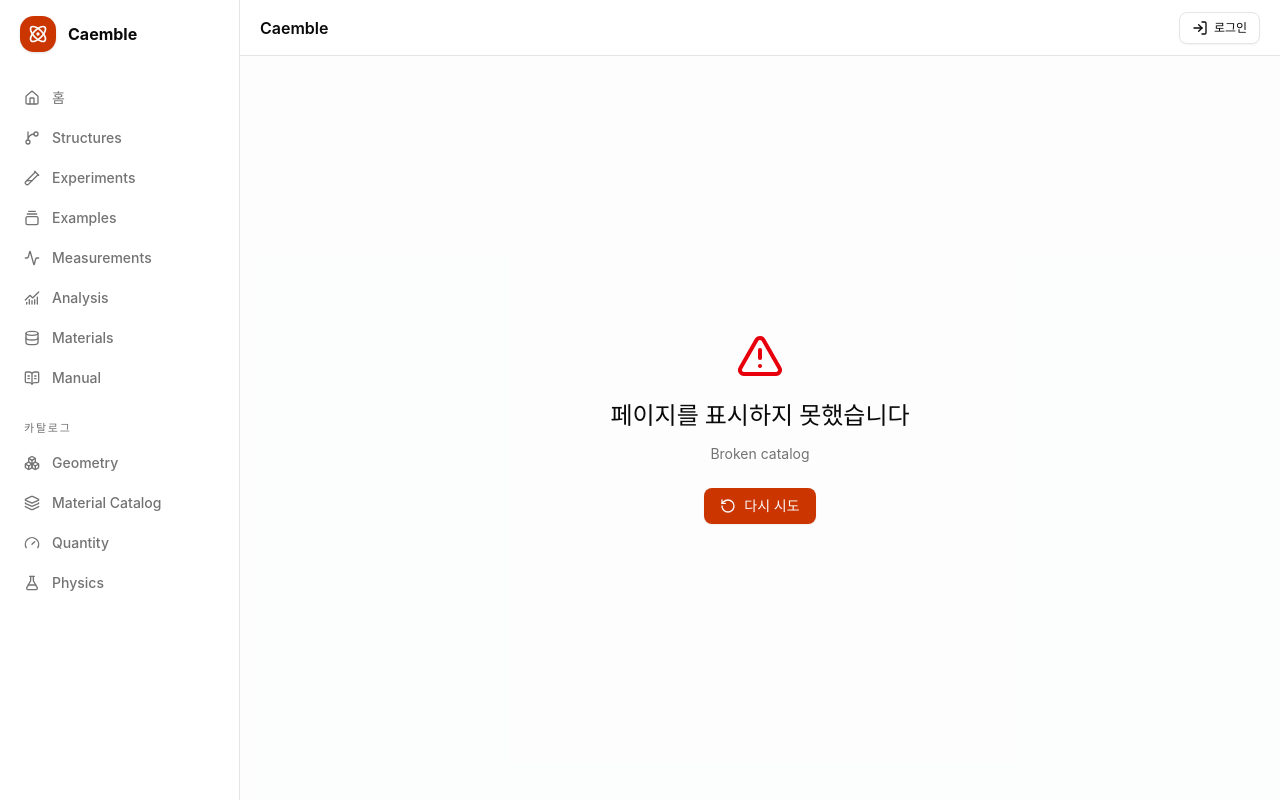
Test case: AppShell catalog navigation › keeps the app shell available when a catalog child fails
Expected: the heading "페이지를 표시하지 못했습니다" is shown, top-left (610, 400), bottom-right (910, 432)
Expected: the text "Broken catalog" is shown, top-left (710, 445), bottom-right (810, 462)
Click the link "홈": [32, 98] box top-left (24, 89), bottom-right (65, 106)
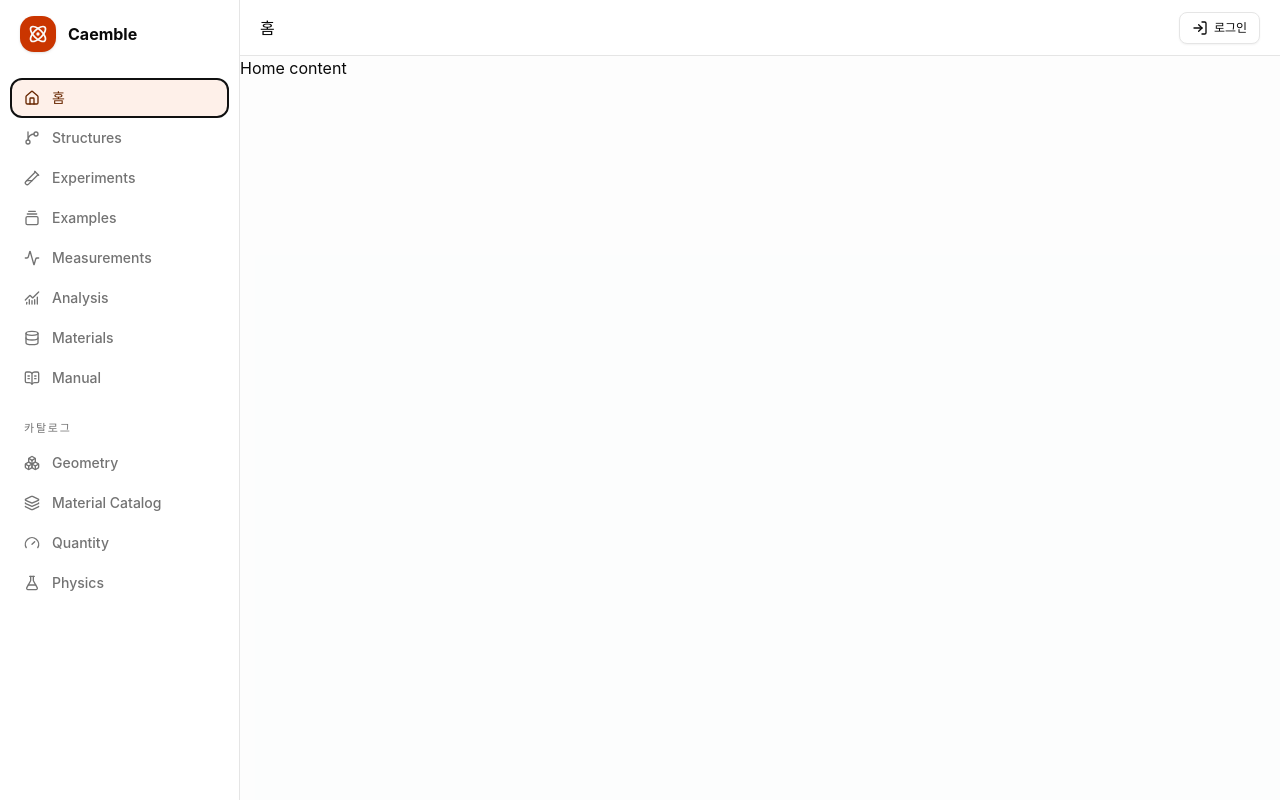
Result: the text "Home content" is shown at top-left (240, 58), bottom-right (347, 78)
